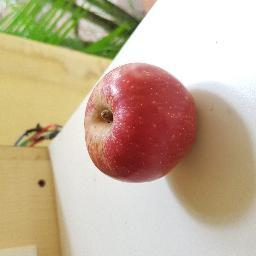Good_apple: (81, 62, 200, 186)
